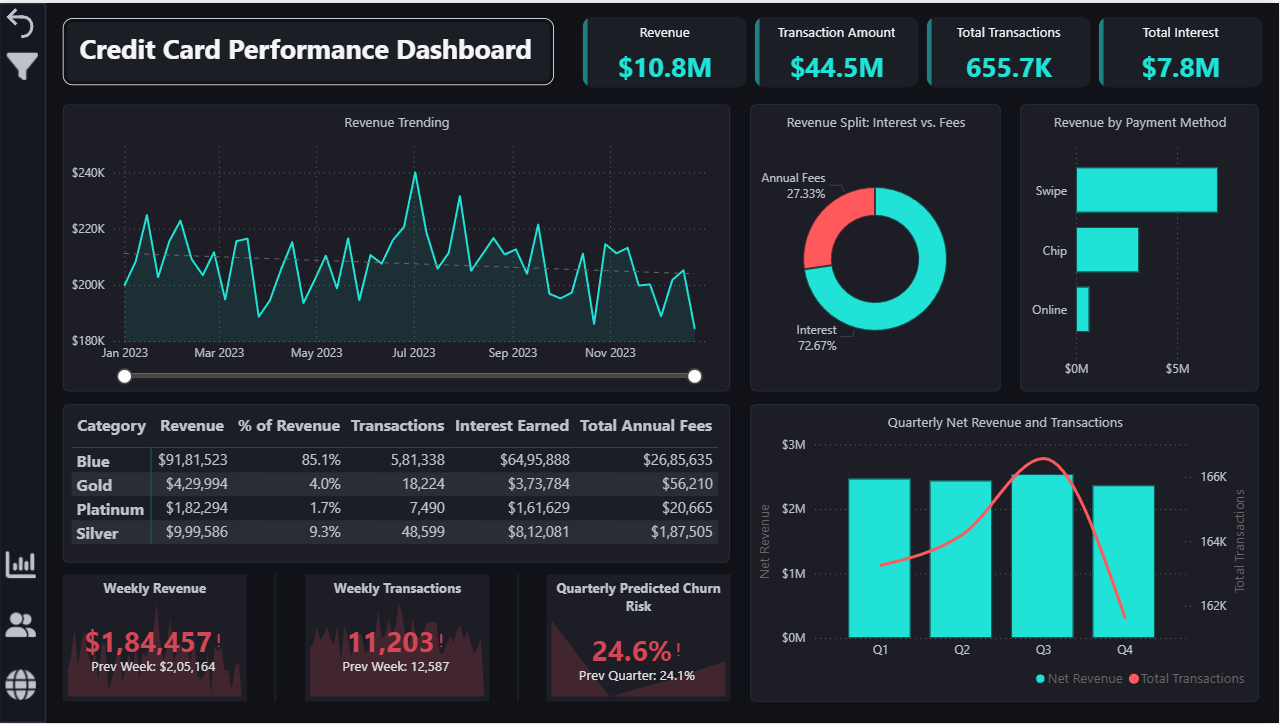

Layout of this report page (visuals, bound fields, positions):
{"tool":"powerbi","page":{"name":"Executive Dashboard","canvas":[1280,720],"ordinal":0},"visuals":[{"type":"shape","box":[0,0,47.1,720],"z":0},{"type":"shape","box":[63.8,15,491.2,67.5],"z":0,"group":"g1"},{"type":"cardVisual","fields":{"Data":["Measures Table.Total Revenue","Measures Table.Total Transaction Amount","Measures Table.Total Transactions","Measures Table.Total Interest Earned"]},"box":[578.8,8.8,690,81.2],"z":1000},{"type":"textbox","box":[64.4,22,485.7,60],"z":1000,"group":"g1"},{"type":"group","id":"g1","title":"Title","box":[63.8,15,491.4,68.6],"z":2000},{"type":"lineChart","title":"Revenue Trending","fields":{"Category":["Calender_Table.Week_Start_Date"],"Y":["Measures Table.Total Revenue"]},"box":[64.3,101.4,667.1,287.1],"z":3000},{"type":"donutChart","title":"Revenue Split: Interest vs. Fees","fields":{"Y":["Measures Table.Interest Share of Revenue","Measures Table.Fees Share of Revenue"]},"box":[751.2,101.2,250,287.5],"z":4000},{"type":"pivotTable","fields":{"Rows":["ccdb credit_card.Card_Category"],"Values":["Measures Table.Total Revenue","Measures Table.% of Total Revenue","Measures Table.Total Transactions","Measures Table.Total Interest Earned","Measures Table.Total Annual Fees"]},"box":[63.8,401.2,667.5,158.3],"z":5000},{"type":"kpi","title":"Weekly Revenue","fields":{"Goal":["Measures Table.Previous Week Revenue"],"Indicator":["Measures Table.Total Revenue"],"TrendLine":["Calender_Table.Week_Start_Date"]},"box":[64.3,571.8,184.3,127.1],"z":6000},{"type":"kpi","title":"Weekly Transactions","fields":{"Goal":["Measures Table.Previous Week Transactions"],"Indicator":["Measures Table.Total Transactions"],"TrendLine":["Calender_Table.Week_Start_Date"]},"box":[305.7,571.8,184.3,127.1],"z":7000},{"type":"kpi","title":"Quarterly Predicted Churn Risk","fields":{"Goal":["Measures Table.Previous Week Churn Risk %"],"Indicator":["Measures Table.Churn % by Category"],"TrendLine":["Calender_Table.Quarter"]},"box":[547.1,571.8,184.3,127.1],"z":8000},{"type":"shape","box":[247.9,571.8,57.7,127.6],"z":9000},{"type":"shape","box":[489.6,571.8,57.7,127.6],"z":10000},{"type":"clusteredBarChart","title":"Revenue by Payment Method","fields":{"Category":["ccdb credit_card.Use Chip"],"Y":["Measures Table.Total Revenue"]},"box":[1021.2,101.2,238.8,287.5],"z":11000},{"type":"lineClusteredColumnComboChart","title":"Quarterly Net Revenue and Transactions","fields":{"Category":["ccdb credit_card.Qtr"],"Y":["Measures Table.Net Revenue"],"Y2":["Measures Table.Total Transactions"]},"box":[751.2,401.2,508.8,297.5],"z":12000},{"type":"actionButton","box":[1.4,0,47.1,40],"z":13000},{"type":"actionButton","box":[3.7,44.2,45.4,39.3],"z":14000},{"type":"actionButton","box":[2.5,542.6,44.8,38.6],"z":16000},{"type":"actionButton","box":[2.5,602.4,44.8,38.6],"z":17000},{"type":"actionButton","box":[2.5,662.1,44.8,38.6],"z":18000}]}

Visuals, with their boxes on the page's 1280x720 design canvas (x1, y1, x2, y2). These are canvas units, not pixel positions in the 1280x724 screenshot, which may show the page scaled, cropped or inside an application window:
shape: select_region(0, 0, 47, 720)
shape: select_region(64, 15, 555, 82)
cardVisual - Measures Table.Total Revenue x Measures Table.Total Transaction Amount: select_region(579, 9, 1269, 90)
textbox: select_region(64, 22, 550, 82)
"Title" group: select_region(64, 15, 555, 84)
"Revenue Trending" lineChart: select_region(64, 101, 731, 388)
"Revenue Split: Interest vs. Fees" donutChart: select_region(751, 101, 1001, 389)
pivotTable - ccdb credit_card.Card_Category x Measures Table.Total Revenue: select_region(64, 401, 731, 560)
"Weekly Revenue" kpi: select_region(64, 572, 249, 699)
"Weekly Transactions" kpi: select_region(306, 572, 490, 699)
"Quarterly Predicted Churn Risk" kpi: select_region(547, 572, 731, 699)
shape: select_region(248, 572, 306, 699)
shape: select_region(490, 572, 547, 699)
"Revenue by Payment Method" clusteredBarChart: select_region(1021, 101, 1260, 389)
"Quarterly Net Revenue and Transactions" lineClusteredColumnComboChart: select_region(751, 401, 1260, 699)
actionButton: select_region(1, 0, 48, 40)
actionButton: select_region(4, 44, 49, 84)
actionButton: select_region(2, 543, 47, 581)
actionButton: select_region(2, 602, 47, 641)
actionButton: select_region(2, 662, 47, 701)
